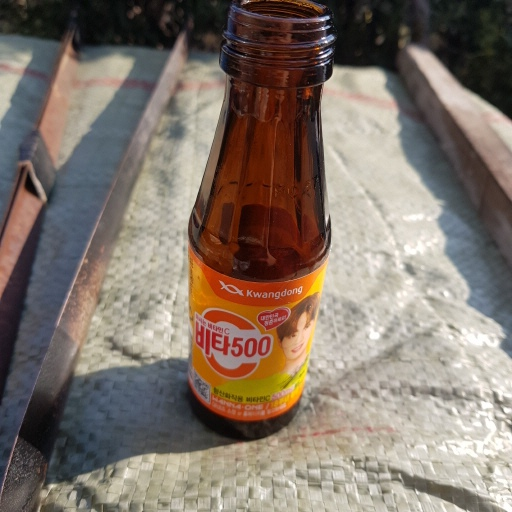Glass_3: (181, 3, 340, 443)
